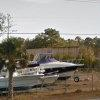Boat: (16, 60, 83, 87)
